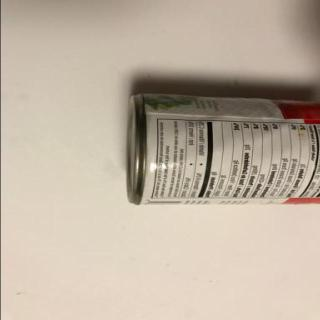Anorganik: (120, 84, 320, 212)
